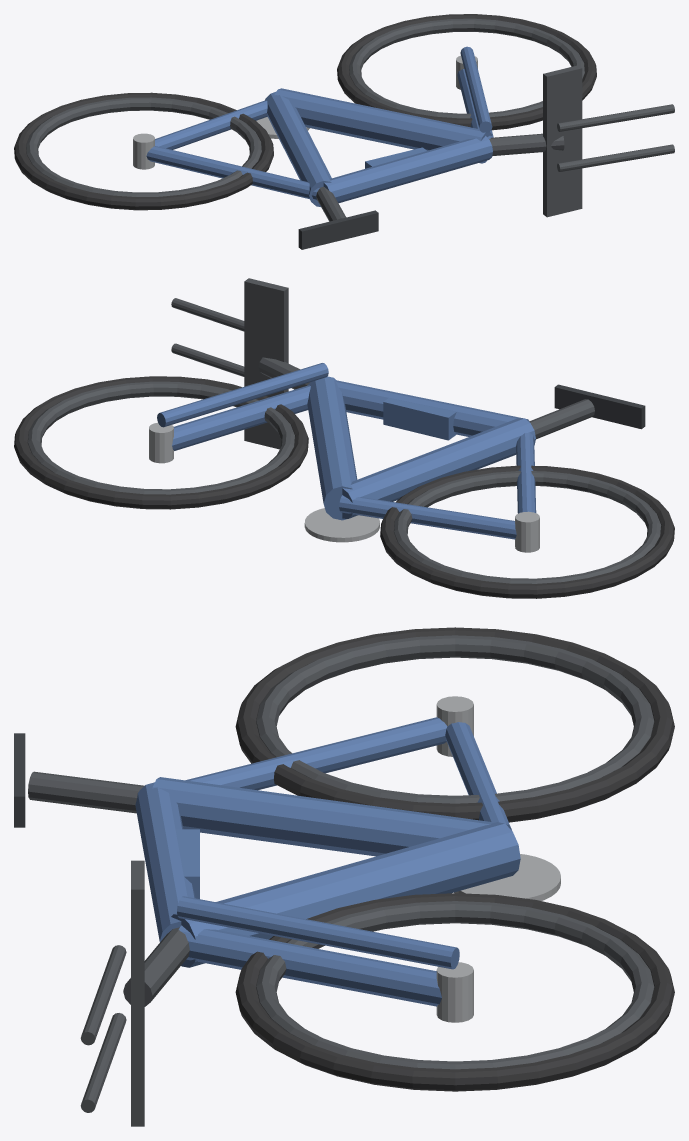
The picture shows the model from 3 angles, top to bottom: view 1: azimuth 30°, elevation 25°; view 2: azimuth 150°, elevation 25°; view 3: azimuth 270°, elevation 25°; orthographic projection. The views are drawn at different scales.
Parts seen in each view (by area): view 1: geometry_0; view 2: geometry_0; view 3: geometry_0.
Boxes of the visible parts, x1=… form: geometry_0: x1=14, y1=14, x2=674, y2=249; geometry_0: x1=14, y1=278, x2=674, y2=598; geometry_0: x1=14, y1=627, x2=674, y2=1126.
Bounding box in the file's own units: 1.72 × 0.42 × 1.06.
